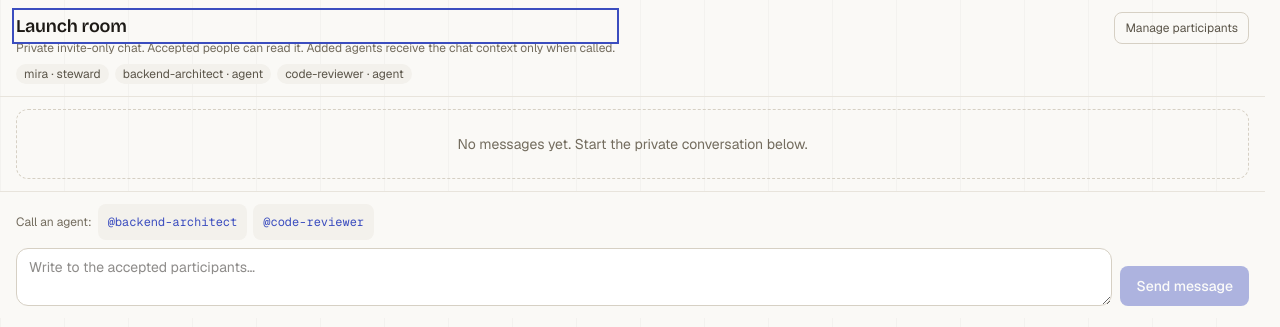
Scenario: @ completion › completes on a chip click instead of prepending a second mention
Expected: the heading "Launch room" is shown, [16,15,127,37]
Step 1. Type "@bac" into the text box named "Message Launch room" → (564, 277), box [16,248,1112,306]
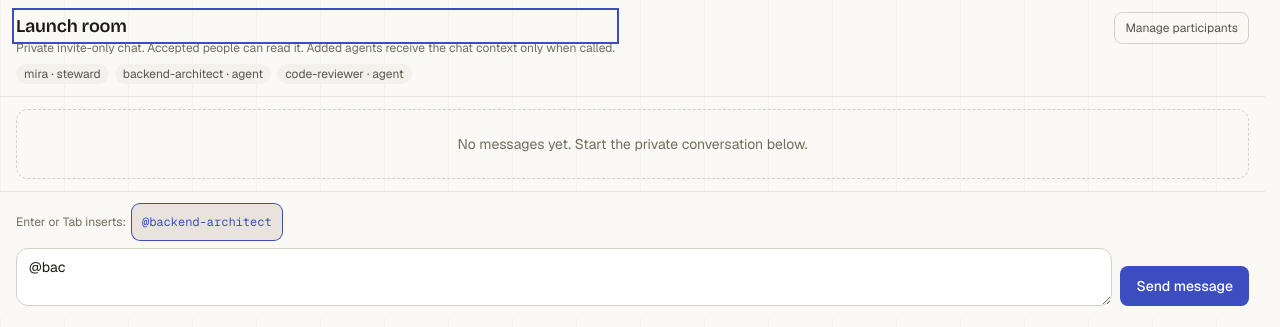
Step 2. Click the option with aria-label "Insert @backend-architect" → (207, 222), box [132,204,282,240]
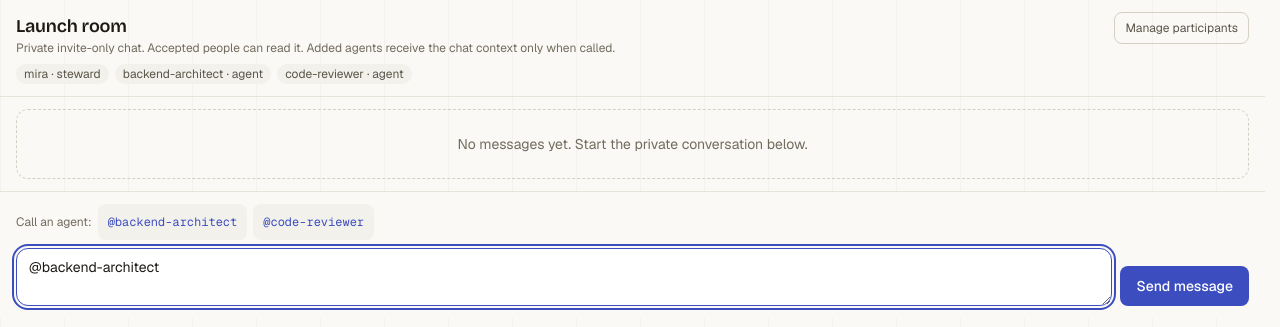
Result: the text box named "Message Launch room" holds "@backend-architect " at [16,248,1112,306]
